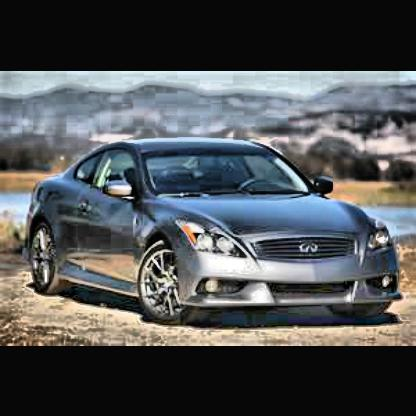Infiniti G Coupe IPL 2012: (26, 136, 405, 330)
